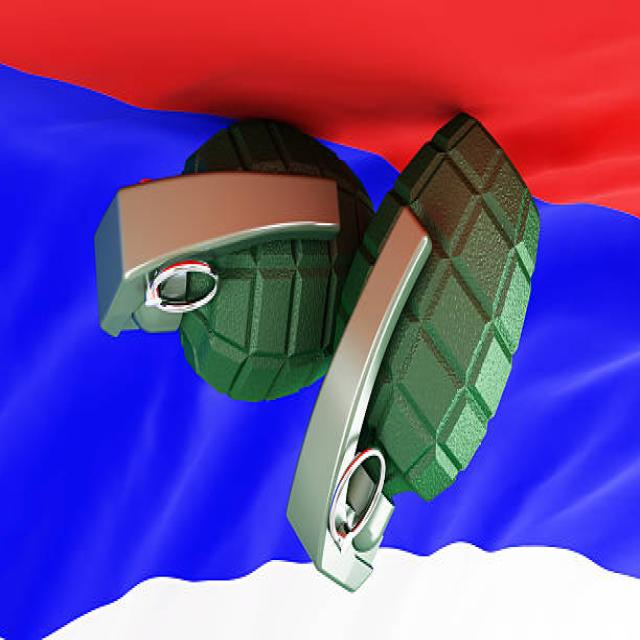grenade: (285, 107, 548, 606)
